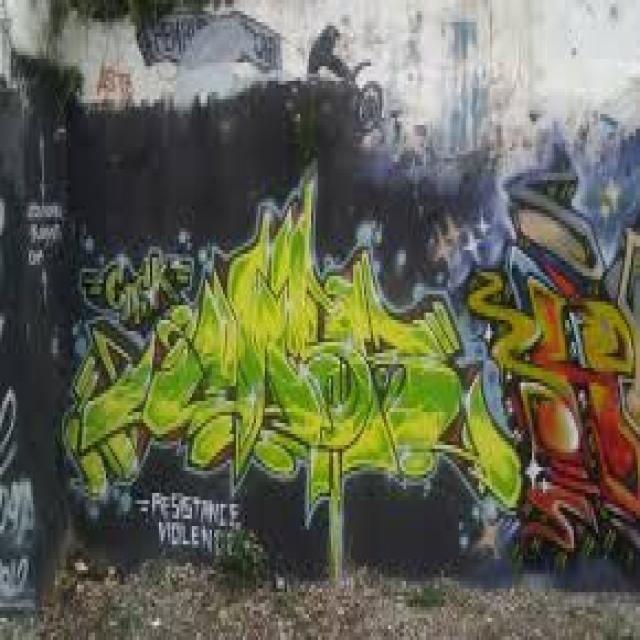-: (61, 162, 529, 516), (468, 165, 640, 572), (0, 384, 36, 600), (132, 489, 244, 558), (26, 194, 59, 270)
